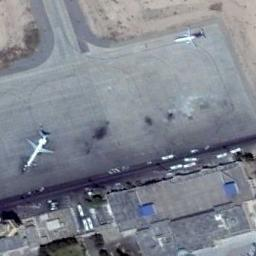Airplane: (20, 128, 55, 172), (174, 24, 206, 52)
